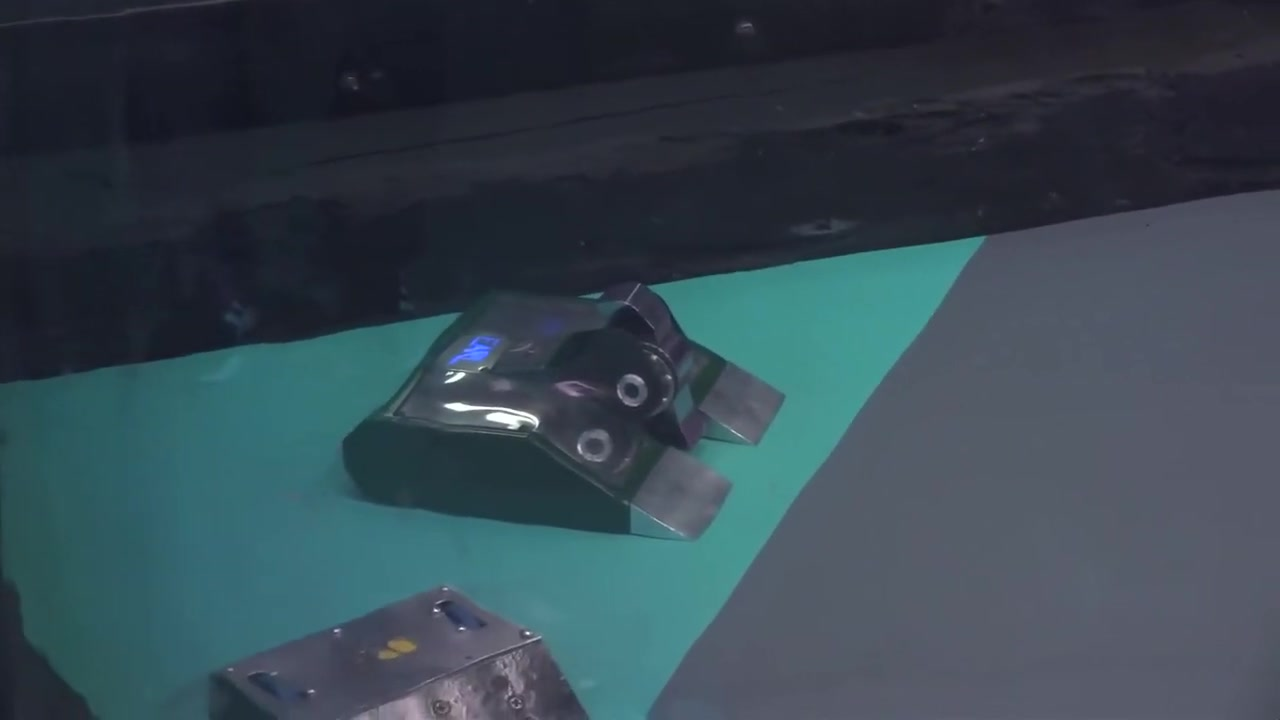combatbot: (341, 287, 788, 537)
minibot: (188, 588, 590, 720)
